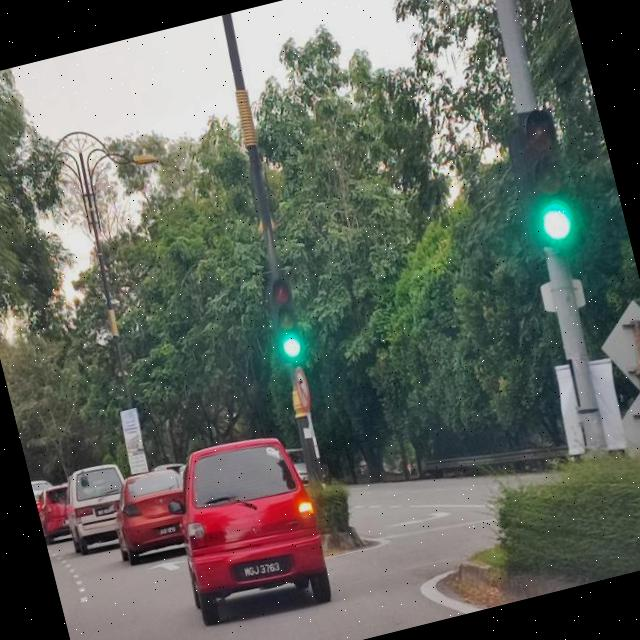green_light: (511, 105, 583, 248), (262, 278, 308, 362)
